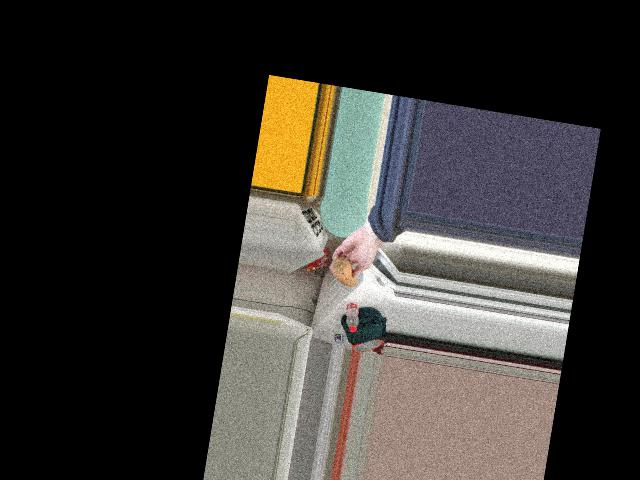sweet_potato: (331, 252, 363, 288)
